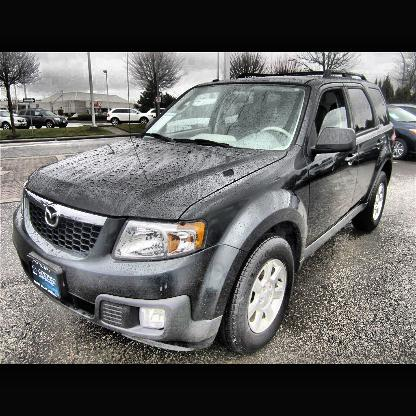Mazda Tribute SUV 2011: (13, 70, 398, 358)
